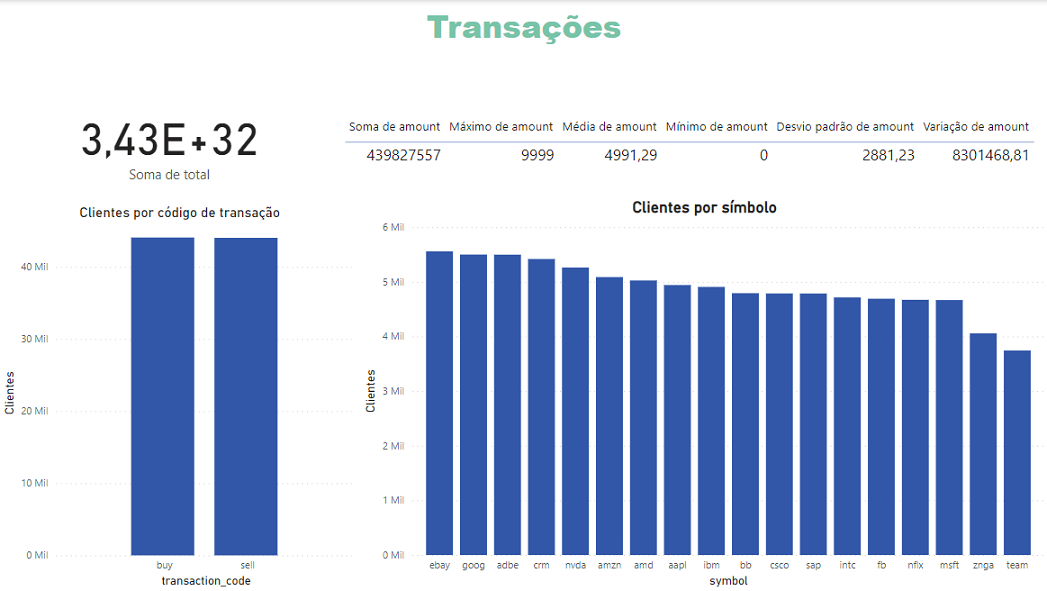

The dashboard page shown, as its layout file describes it:
{"tool":"powerbi","page":{"name":"Transacoes","canvas":[1280,720],"ordinal":3},"visuals":[{"type":"clusteredColumnChart","title":"Clientes por símbolo","fields":{"Category":["transacoes.symbol"],"Y":["CountNonNull(transacoes._id)"]},"box":[440.5,241.5,839.8,478.9],"z":0},{"type":"clusteredColumnChart","title":"Clientes por código de transação","fields":{"Category":["transacoes.transaction_code"],"Y":["CountNonNull(transacoes._id)"]},"box":[0,248.4,440.5,472],"z":1000},{"type":"tableEx","fields":{"Values":["Sum(transacoes.amount)","Max(transacoes.amount)","Avg(transacoes.amount)","Min(transacoes.amount)","StandardDeviation(transacoes.amount)","Variance(transacoes.amount)"]},"box":[415.8,137.2,864.5,90.6],"z":2000},{"type":"card","fields":{"Values":["Sum(transacoes.total)"]},"box":[0,98.8,415.8,149.6],"z":3000},{"type":"textbox","box":[0,0,1280.3,98.8],"z":4000}]}

Visuals, with their boxes in screenshot pixels (x1, y1, x2, y2), scaled from the page's 1280x720 canvas onto the 1047x591 screenshot:
"Clientes por símbolo" clusteredColumnChart: Rect(360, 198, 1046, 590)
"Clientes por código de transação" clusteredColumnChart: Rect(0, 204, 360, 590)
tableEx - Sum(transacoes.amount) x Max(transacoes.amount): Rect(340, 113, 1046, 187)
card - Sum(transacoes.total): Rect(0, 81, 340, 204)
textbox: Rect(0, 0, 1046, 81)
